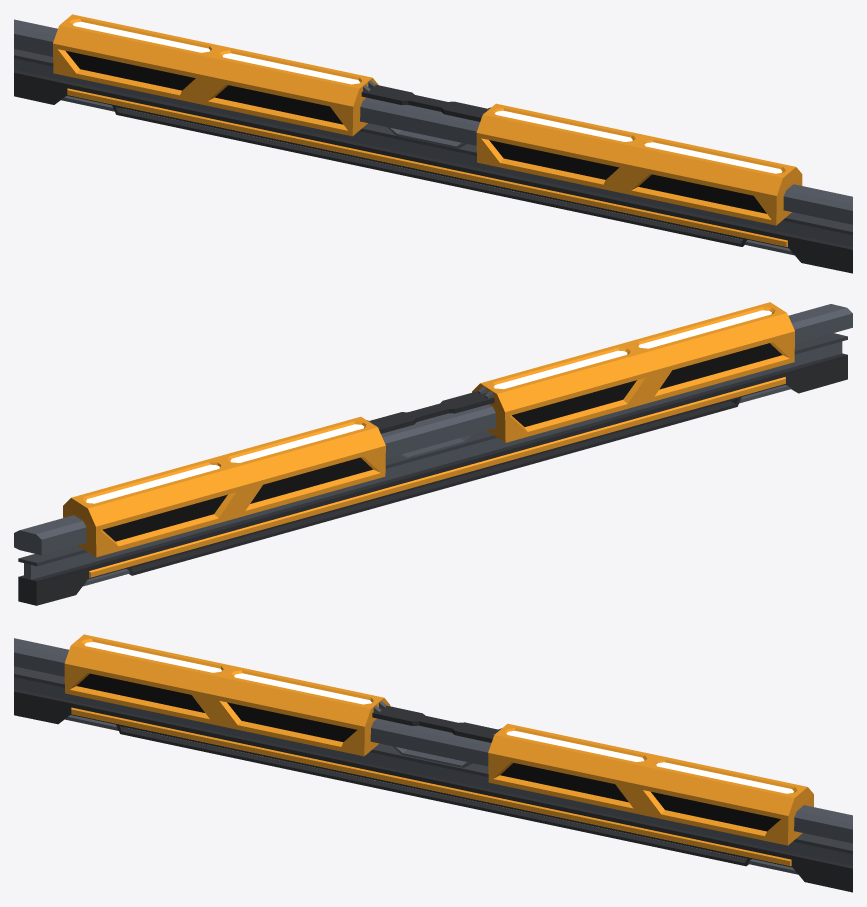
Rendered from SM_Diagonal_section_of_the_conveyor.glb.
3 renders of one model, top to bottom at view 1: azimuth 90°, elevation 25°; view 2: azimuth 150°, elevation 25°; view 3: azimuth 270°, elevation 25°, orthographic. The views are drawn at different scales.
Parts seen in each view (by area): view 1: SM_Diagonal_section_of_the_conveyor; view 2: SM_Diagonal_section_of_the_conveyor; view 3: SM_Diagonal_section_of_the_conveyor.
Boxes of the visible parts, <box> form: SM_Diagonal_section_of_the_conveyor: <box>14,14,852,273</box>; SM_Diagonal_section_of_the_conveyor: <box>14,302,852,605</box>; SM_Diagonal_section_of_the_conveyor: <box>14,634,852,892</box>.
Bounding box in the file's own units: 1.07 × 0.2208 × 2.
2 materials, 1 textured.
